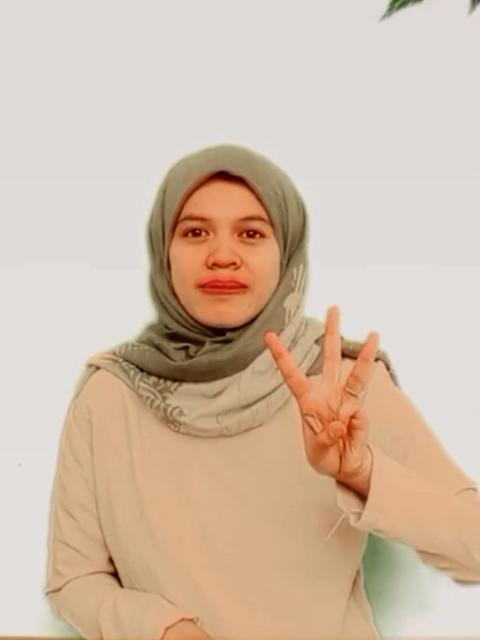W: (260, 302, 381, 498)
